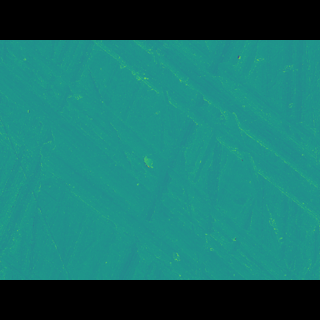Loch: (11, 78, 303, 236)
